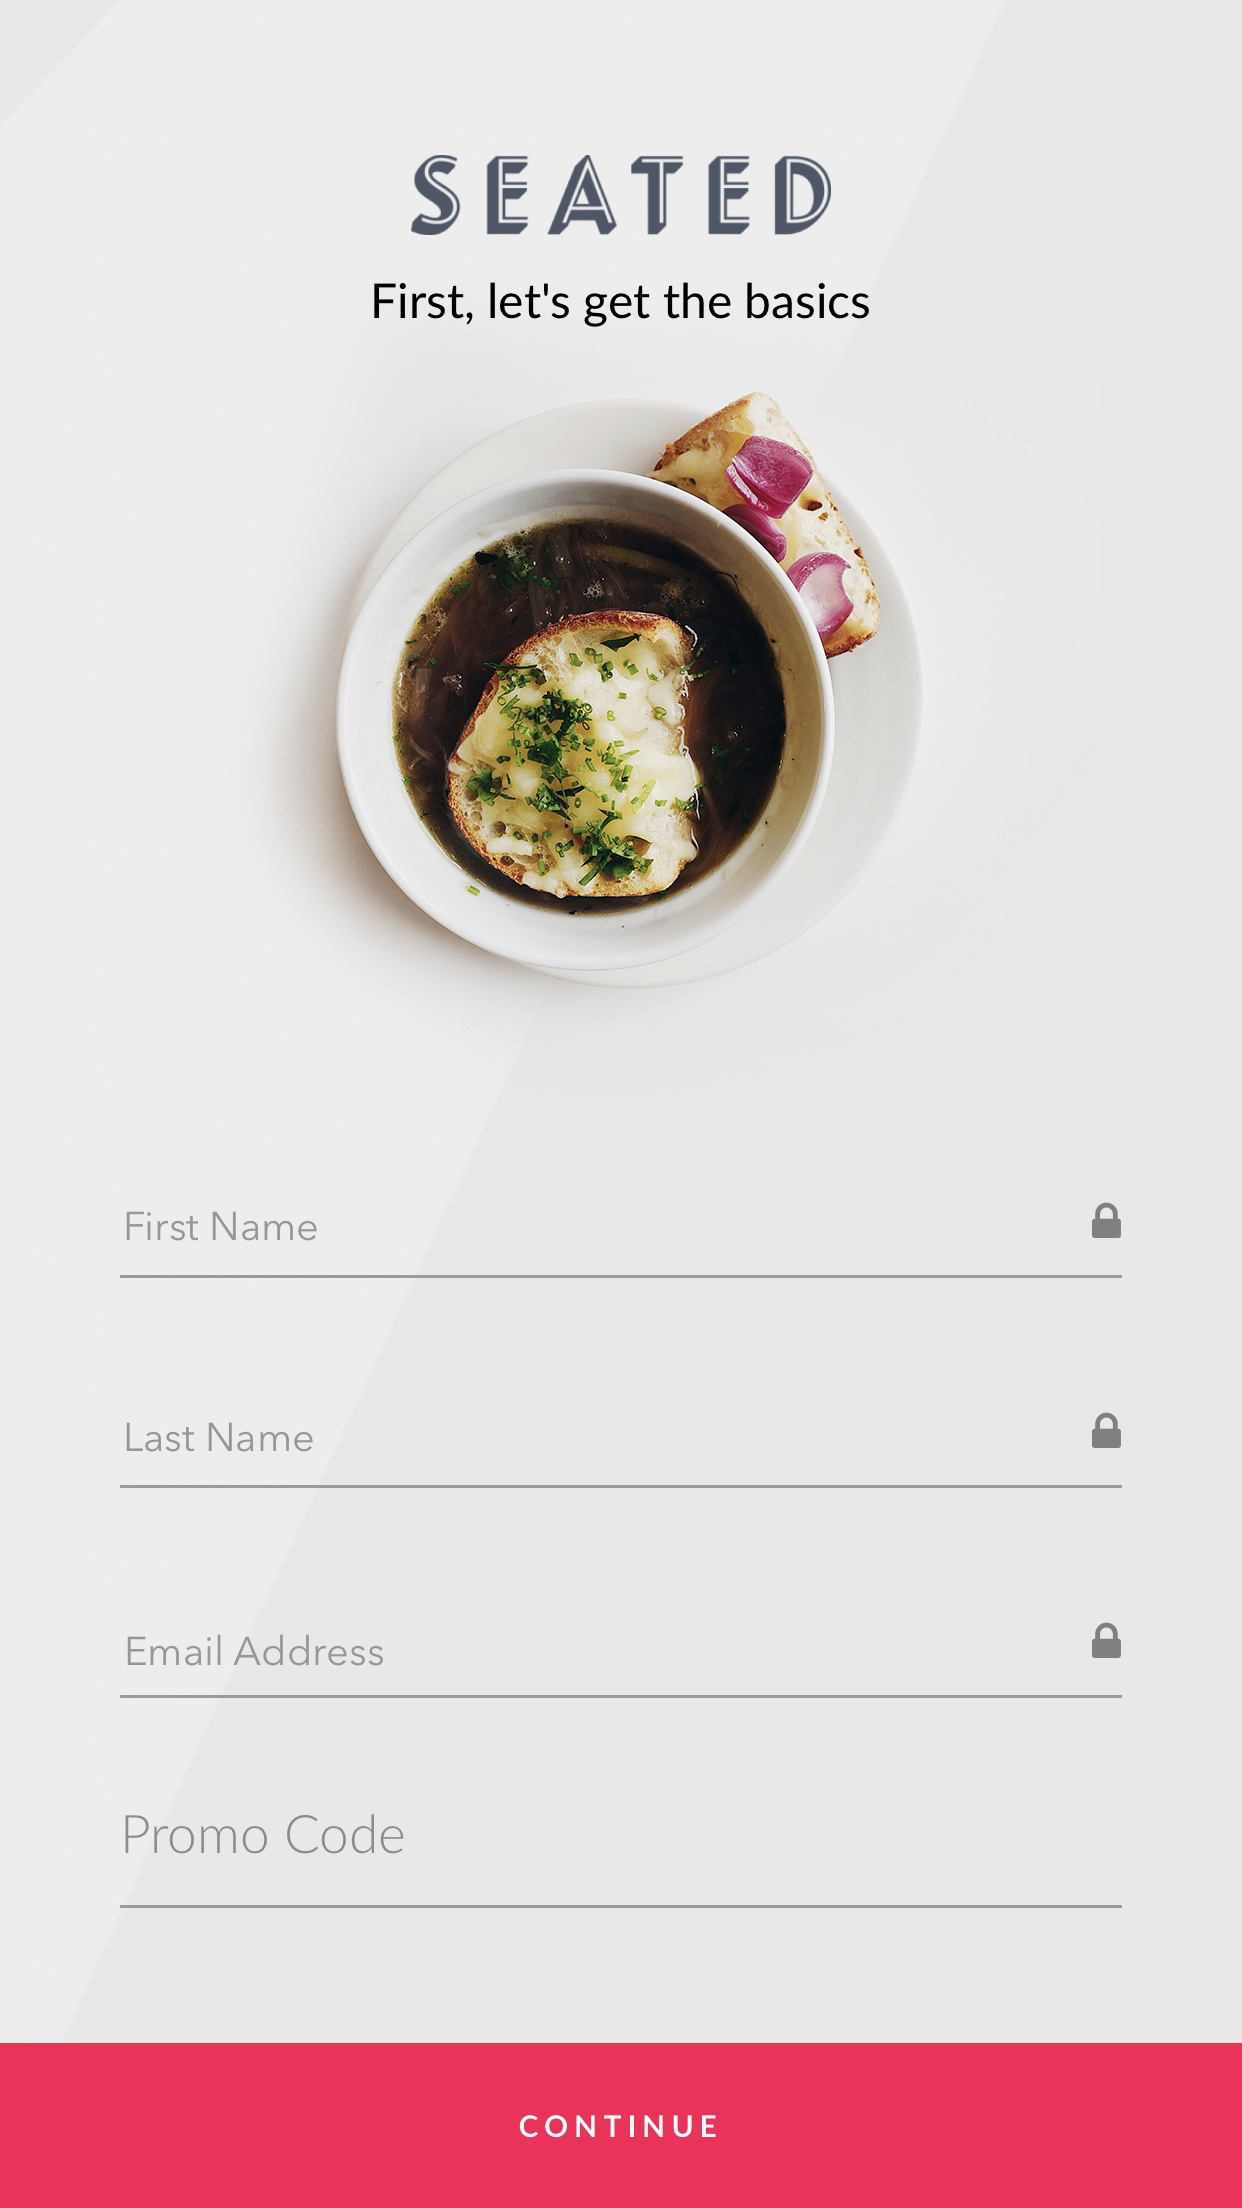EditText: (121, 1815, 1124, 1909), (121, 1203, 1124, 1278), (120, 1413, 1122, 1489), (120, 1623, 1122, 1698)
Icon: (1090, 1203, 1122, 1239), (1092, 1412, 1122, 1450), (1092, 1623, 1122, 1659)
Image: (334, 390, 924, 990)
Text: (409, 155, 833, 237), (373, 282, 870, 329), (126, 1814, 403, 1855), (127, 1633, 385, 1667), (126, 1422, 312, 1453), (126, 1212, 318, 1240)
TextButton: (2, 2043, 1242, 2208)
